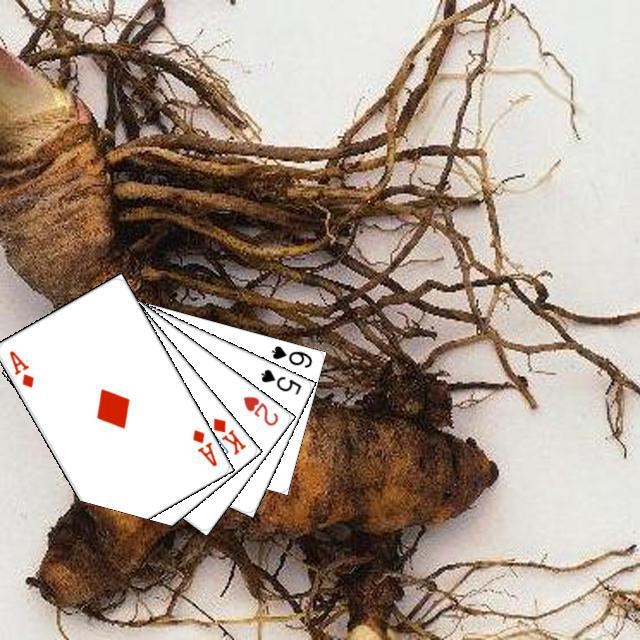2h: (238, 391, 280, 428)
5s: (256, 364, 303, 397)
6s: (267, 341, 314, 369)
Ad: (187, 424, 219, 468), (4, 345, 36, 389)
Kd: (208, 413, 248, 457)
